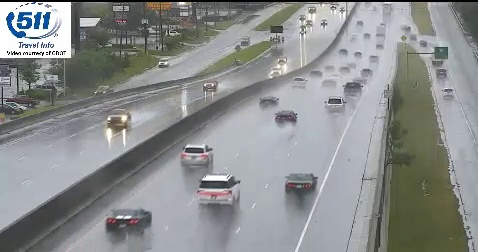car: (199, 174, 240, 204), (105, 208, 152, 233), (284, 173, 317, 193), (182, 144, 212, 165), (275, 110, 297, 125), (325, 98, 344, 113)
